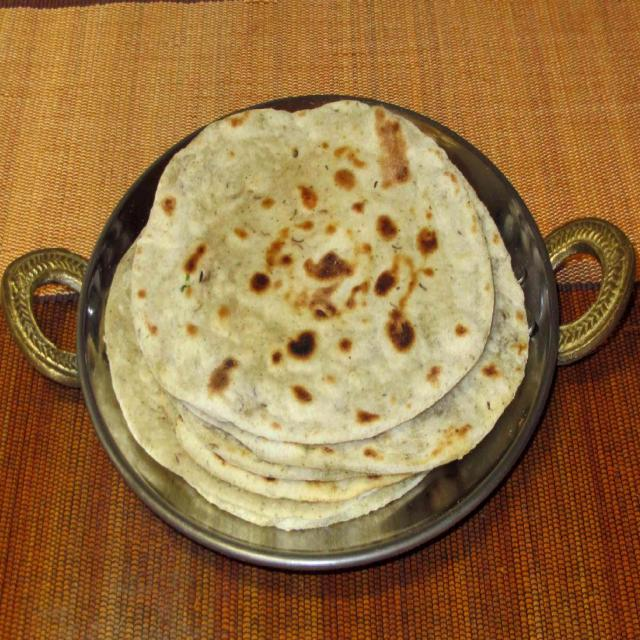ROTI: (105, 97, 531, 530)
